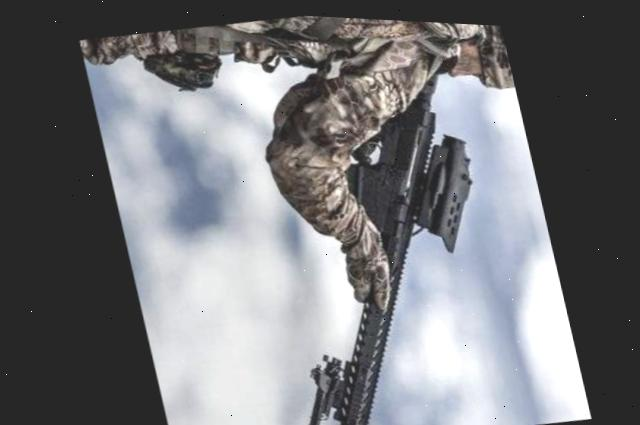rifle: (185, 42, 557, 425)
